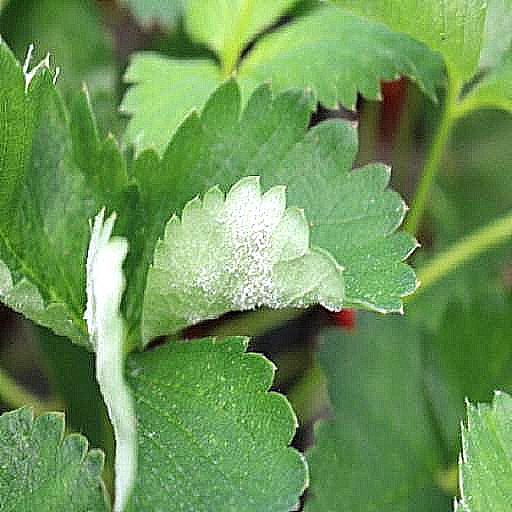Powdery Mildew Leaf: (91, 75, 384, 351), (201, 207, 426, 511), (365, 37, 511, 354)
